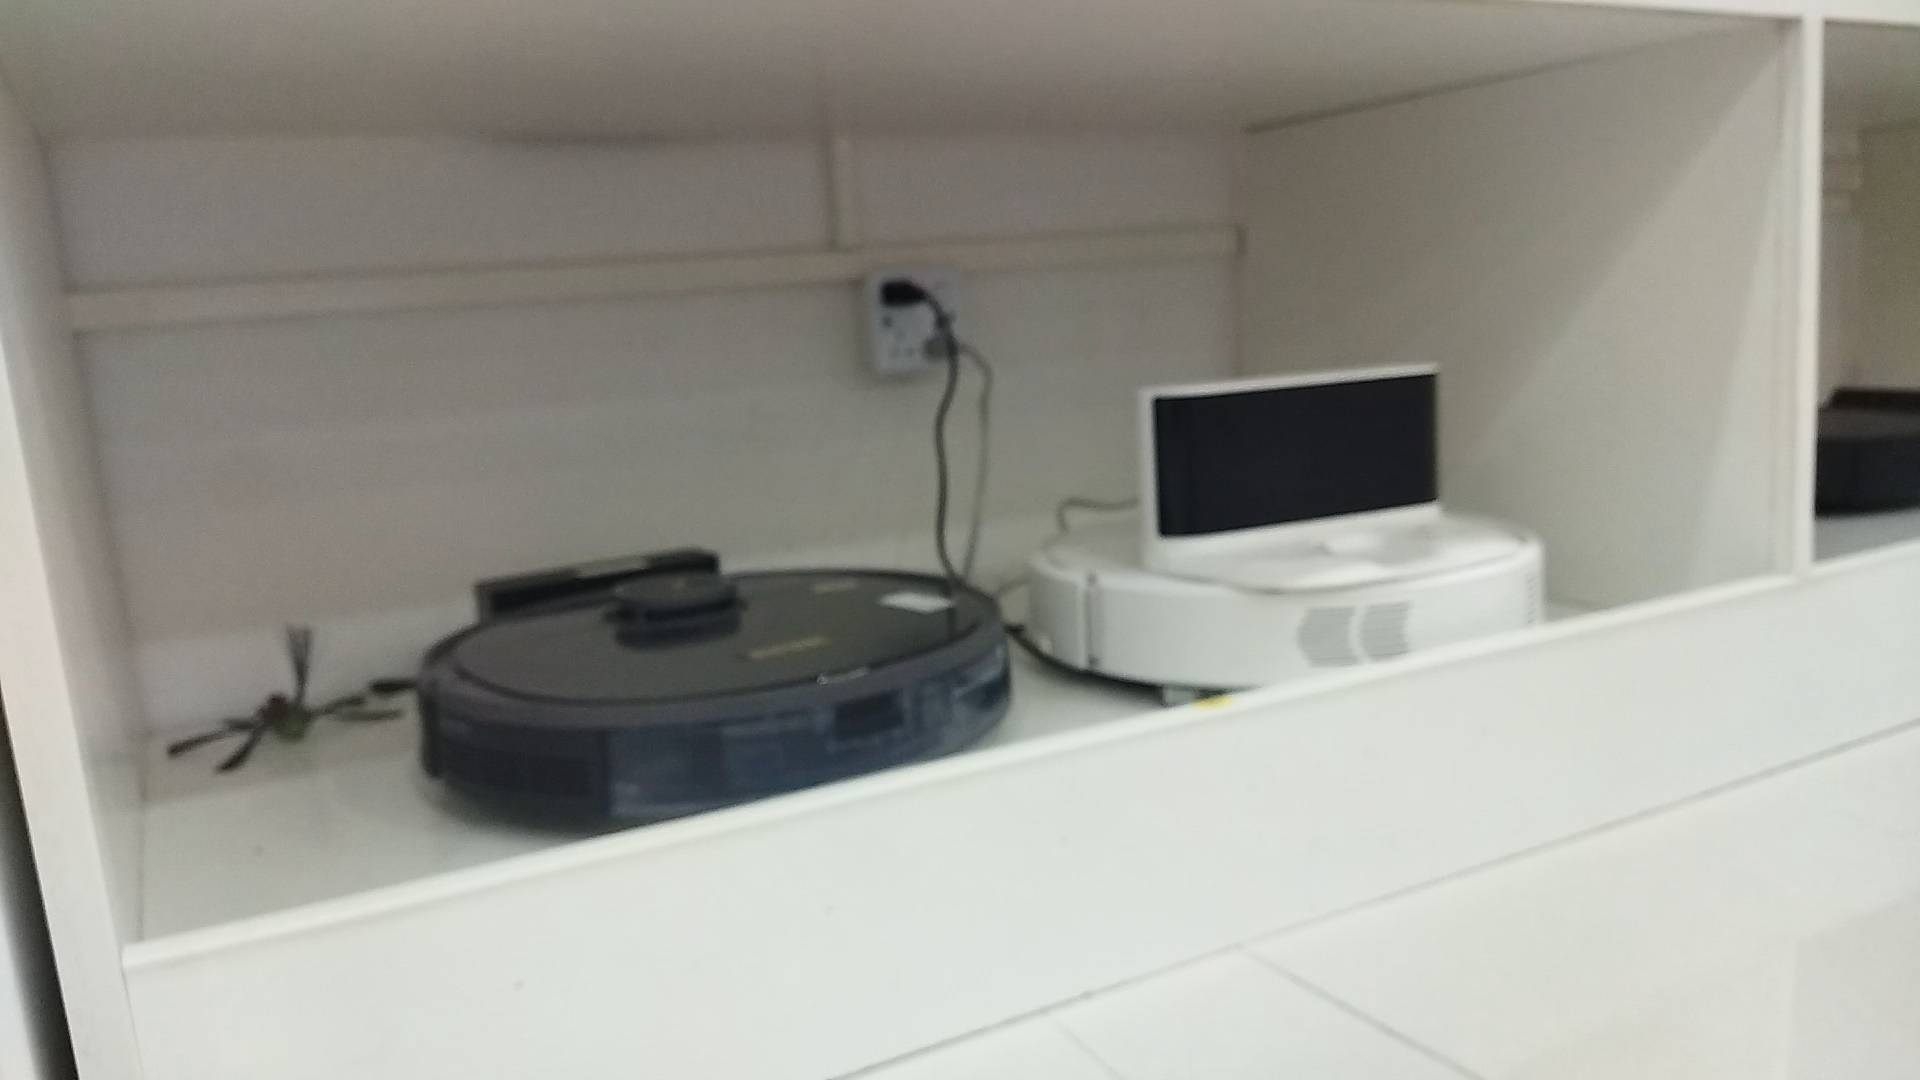recharge seat: (1135, 363, 1520, 593)
